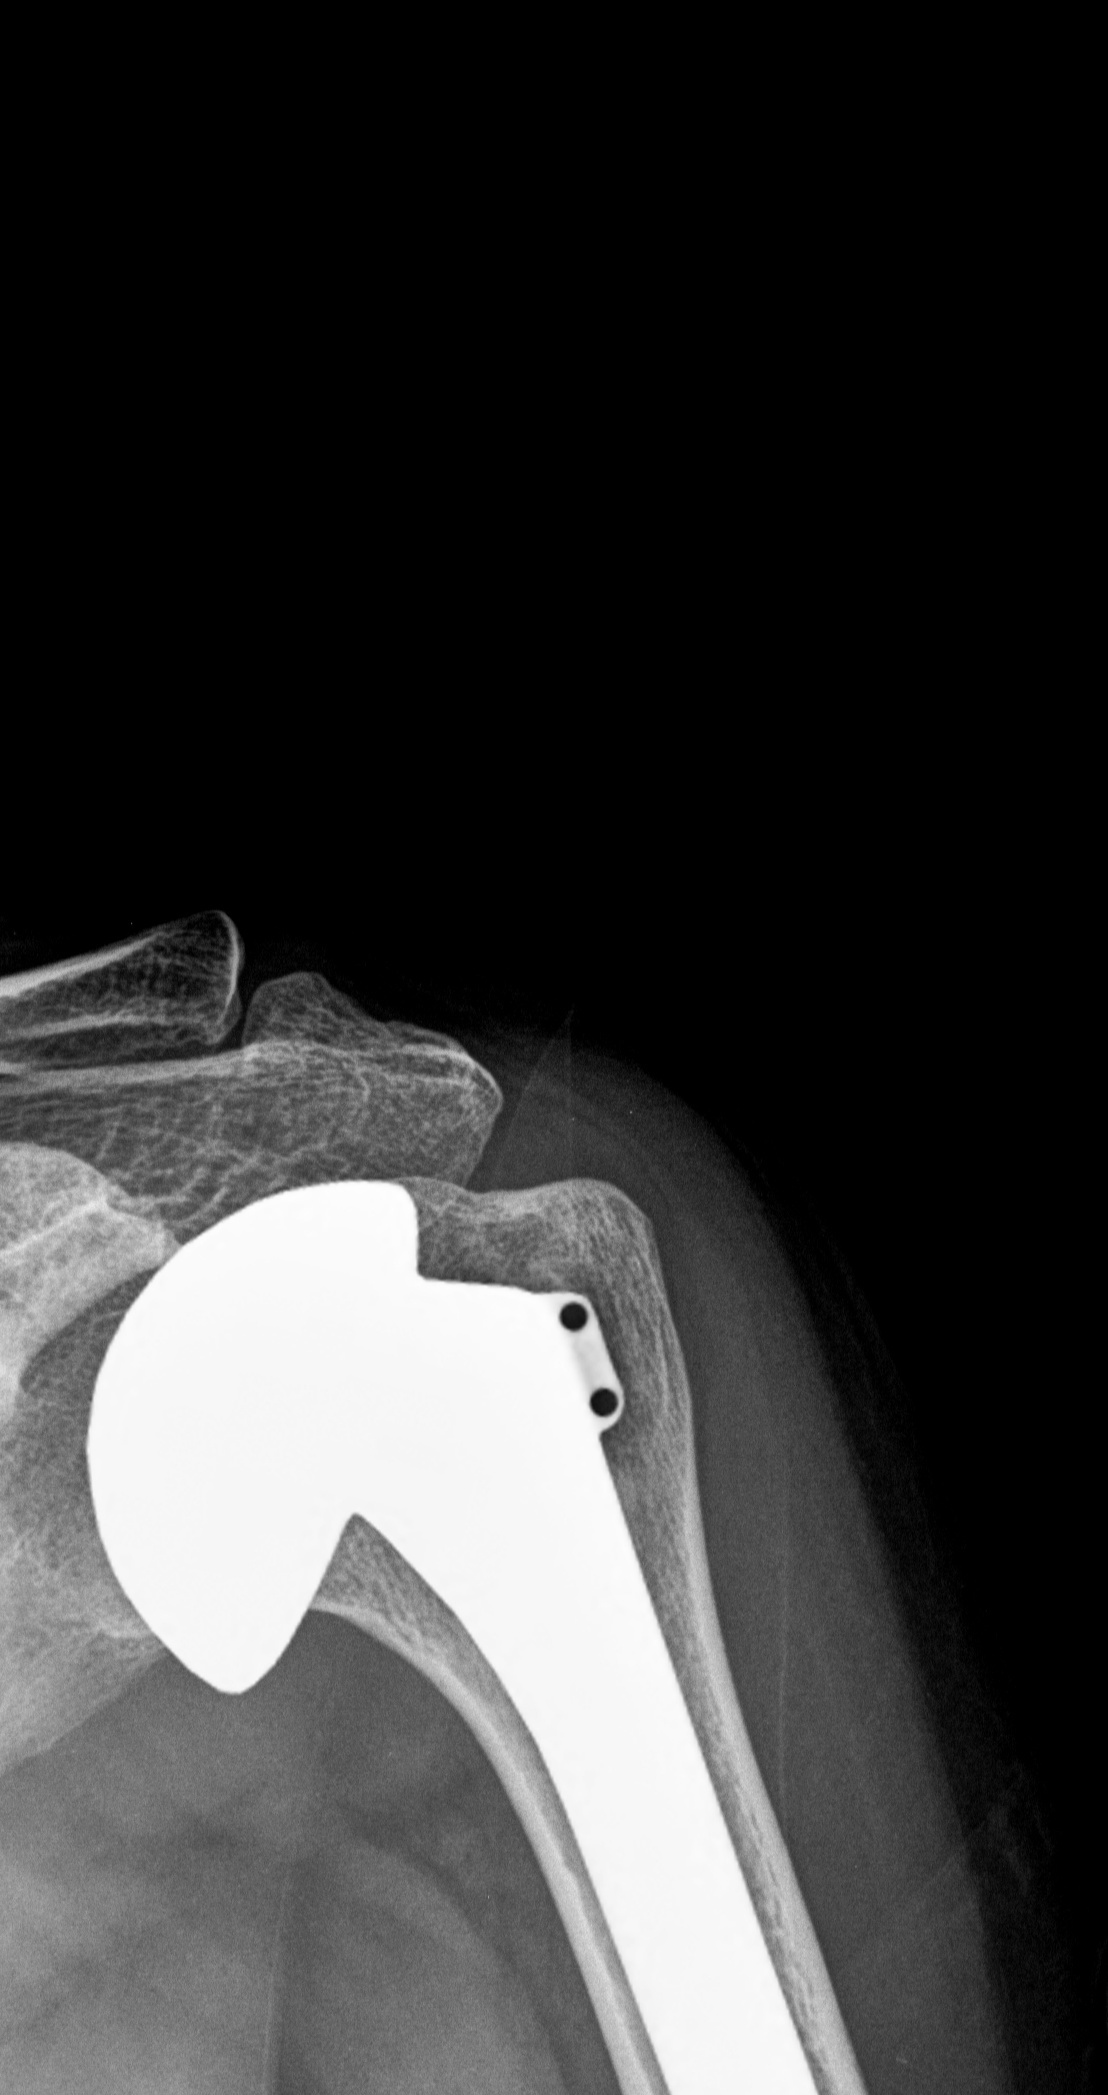Shoulder - AequalisPressfit - Tornier: (73, 1150, 640, 1715)
